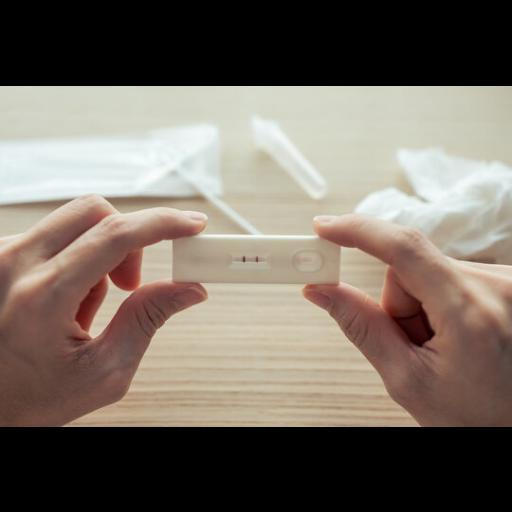Pos: (174, 236, 340, 282)
